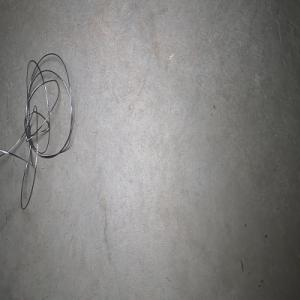Wire: (0, 53, 72, 209)
